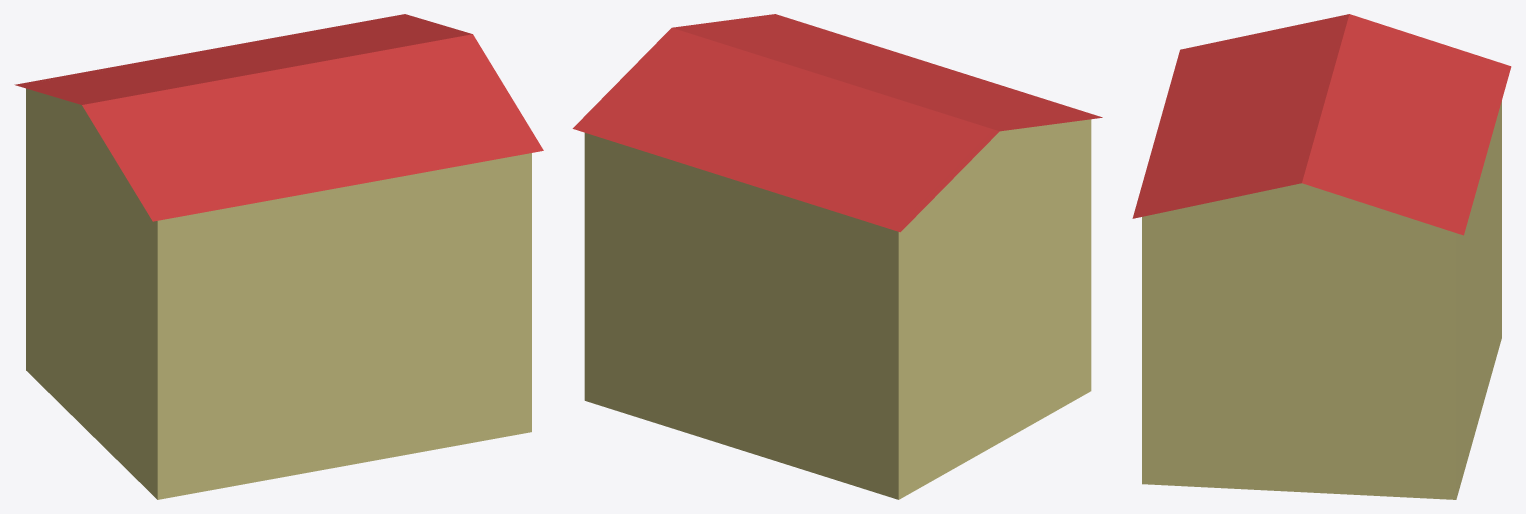
The picture shows the model from 3 angles, left to right: view 1: azimuth 30°, elevation 25°; view 2: azimuth 150°, elevation 25°; view 3: azimuth 270°, elevation 25°; orthographic projection. The views are drawn at different scales.
Bounding box in the file's own units: 12.83 × 11.05 × 10.06.
